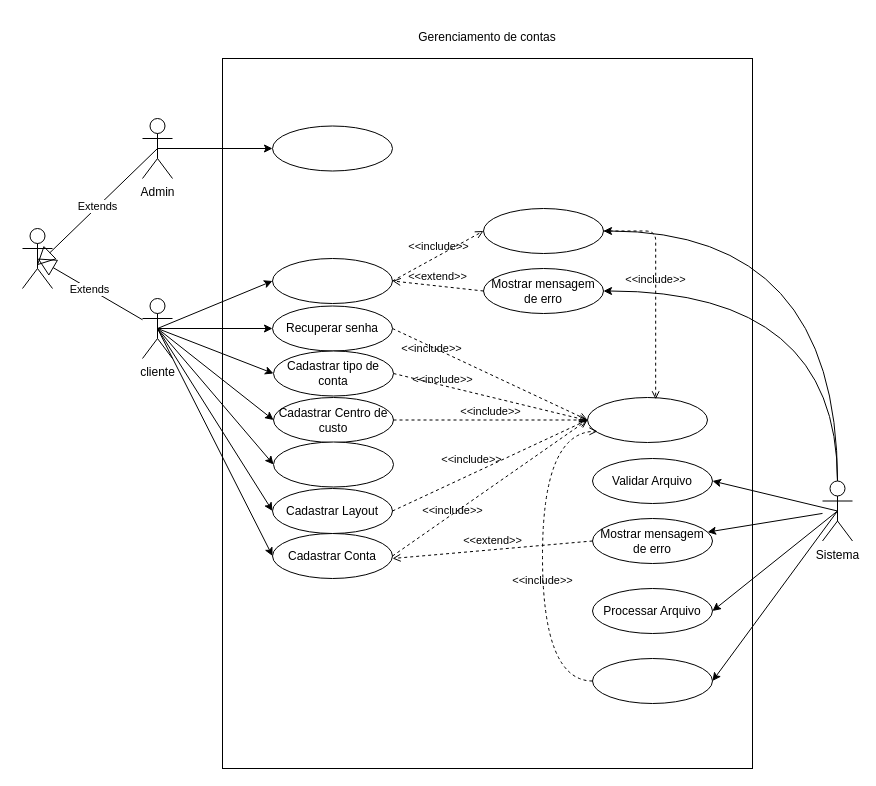
Image size: 876x786. Some labels were removed from this diagram. Here are the shapes that lost their labels. From the top down, the centre of each, then its label:
At (x=332, y=148): "Casdastrar Cliente".
At (x=543, y=231): "Verificar senha".
At (x=37, y=258): "Usuário".
At (x=332, y=281): "Fazer login".
At (x=647, y=419): "Acessar banco de dados".
At (x=333, y=464): "Enviar arquivo".
At (x=652, y=681): "Salvar conta".
